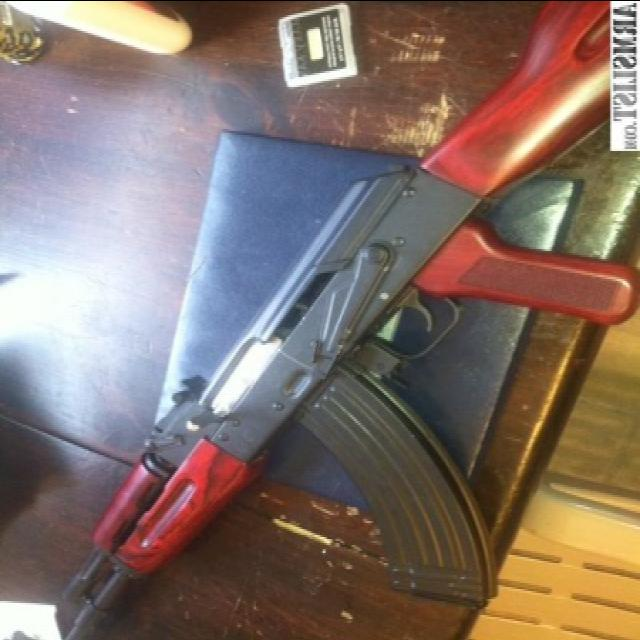rifle: (31, 1, 627, 635)
